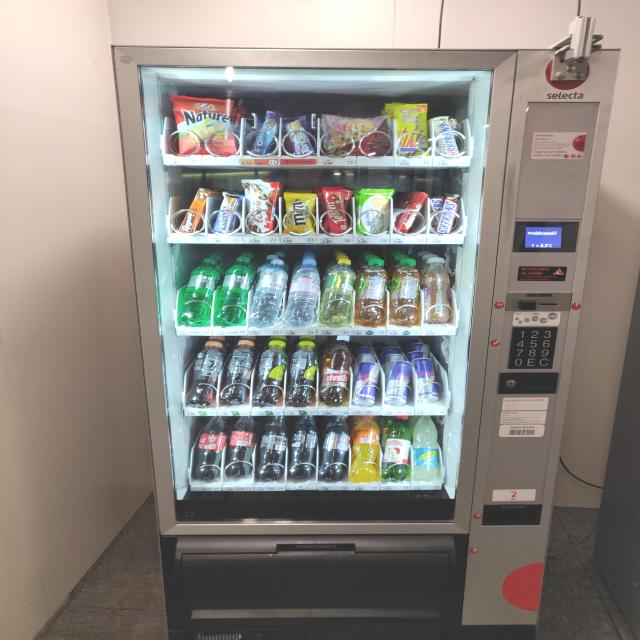b_tarteaupomme____: (319, 115, 392, 158)
bueno___43__4008400320328: (244, 180, 278, 234)
coke__flasche_50__54491472: (192, 418, 227, 480), (227, 414, 254, 479)
coke_zero_flasche_50__5449000131836: (256, 414, 290, 480), (320, 415, 352, 482), (289, 414, 321, 480)
darwida_sandwich____7610032065170: (358, 188, 396, 235)
evian___50__3068320353500: (288, 256, 321, 325)
fanta___50__40822938: (353, 416, 384, 483)
fuse_lemon__50__5449000235947: (252, 339, 291, 407), (288, 340, 319, 407)
fuse_peach__50__5449000236623: (187, 339, 224, 405), (223, 339, 253, 405)
knoppers_riegel____4035800488808: (213, 192, 245, 234)
malburner_partysticks__40__7610200279682: (394, 104, 432, 154)
maltesers_teasers__35__5000159462129: (323, 188, 352, 235)
milka_oreo_riegel_37_1_7622210704740: (248, 110, 282, 154)
milka_tender____: (286, 117, 317, 157)
mnms_gelb__45__40111445: (282, 192, 318, 235)
ragusa___50__76401121: (176, 187, 210, 235)
ramseier_jusdepomme__50__7610057001078: (383, 414, 413, 482)
redbull___33__90162909: (353, 361, 381, 408), (387, 361, 414, 406), (416, 358, 440, 400)
rivella_rot__50__7610097111072: (320, 335, 353, 405)
schweppes_bitterlemon__50__: (413, 416, 442, 480)
snickers___50__5000159461122: (437, 194, 463, 234)
snickers_weis__50__5000159461122: (434, 117, 461, 157)
torino___46__76415272: (396, 190, 428, 233)
valser_classic__50__76404160: (180, 258, 220, 324), (215, 256, 247, 327)
valser_still__50__7610335002575: (252, 256, 285, 327)
volvic_teeminze__50__3057640335648: (358, 257, 390, 326), (391, 258, 423, 325)
zweifel_salz__90__7610095005007: (173, 95, 243, 156)
